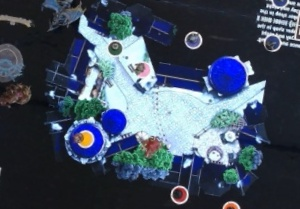blue: (261, 30, 287, 54)
green: (106, 37, 127, 58)
orange: (217, 196, 243, 209)
pink: (133, 58, 153, 81)
red: (167, 181, 194, 205)
violet: (178, 24, 208, 54)
yellow: (73, 125, 95, 150)
